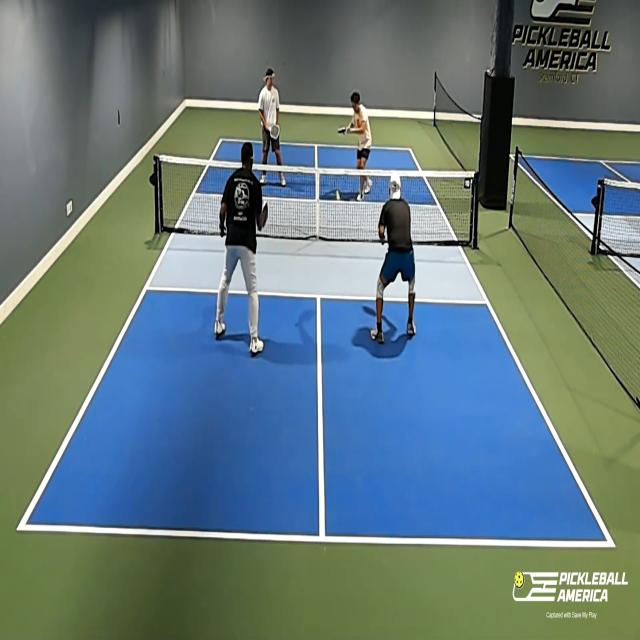Pickleball: (335, 186, 340, 205)
